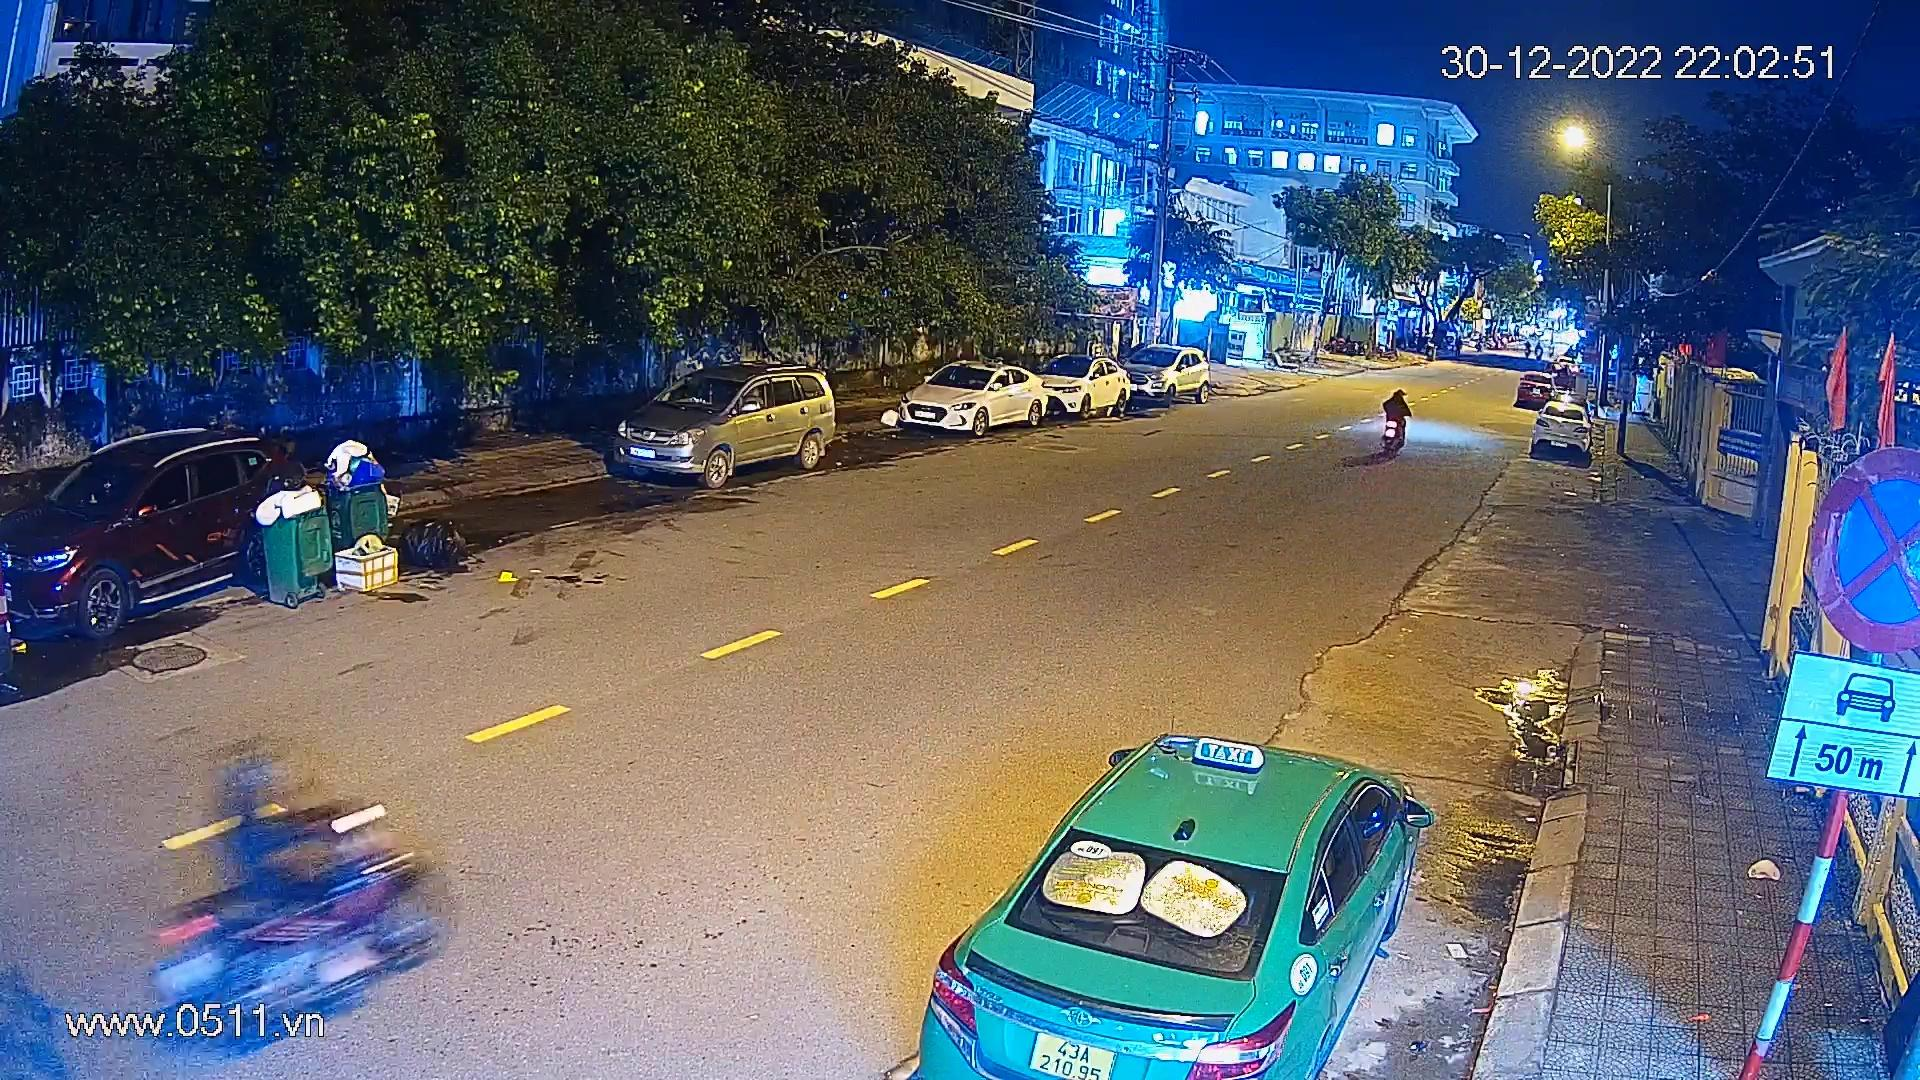car: (926, 728, 1439, 1080), (0, 407, 360, 673), (611, 360, 843, 487), (893, 348, 1050, 434), (1039, 355, 1135, 418), (1124, 345, 1217, 400), (1534, 390, 1590, 465), (1514, 357, 1556, 409)
motorcycle: (141, 760, 456, 1046), (1373, 381, 1419, 464)
